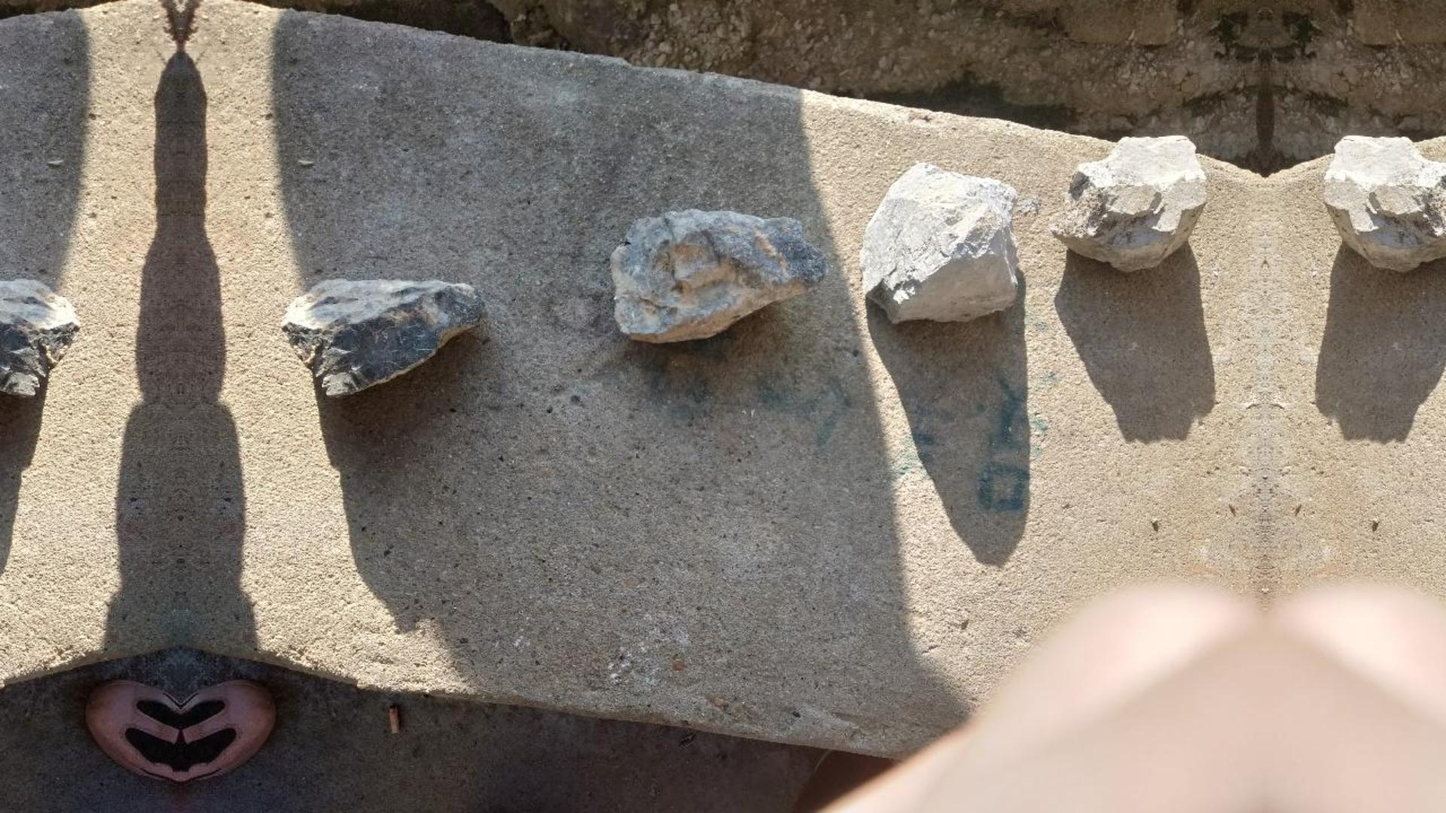rock: (610, 209, 826, 342), (861, 163, 1017, 323), (281, 279, 482, 395), (1049, 136, 1205, 271), (1324, 136, 1445, 271), (0, 279, 79, 395)
